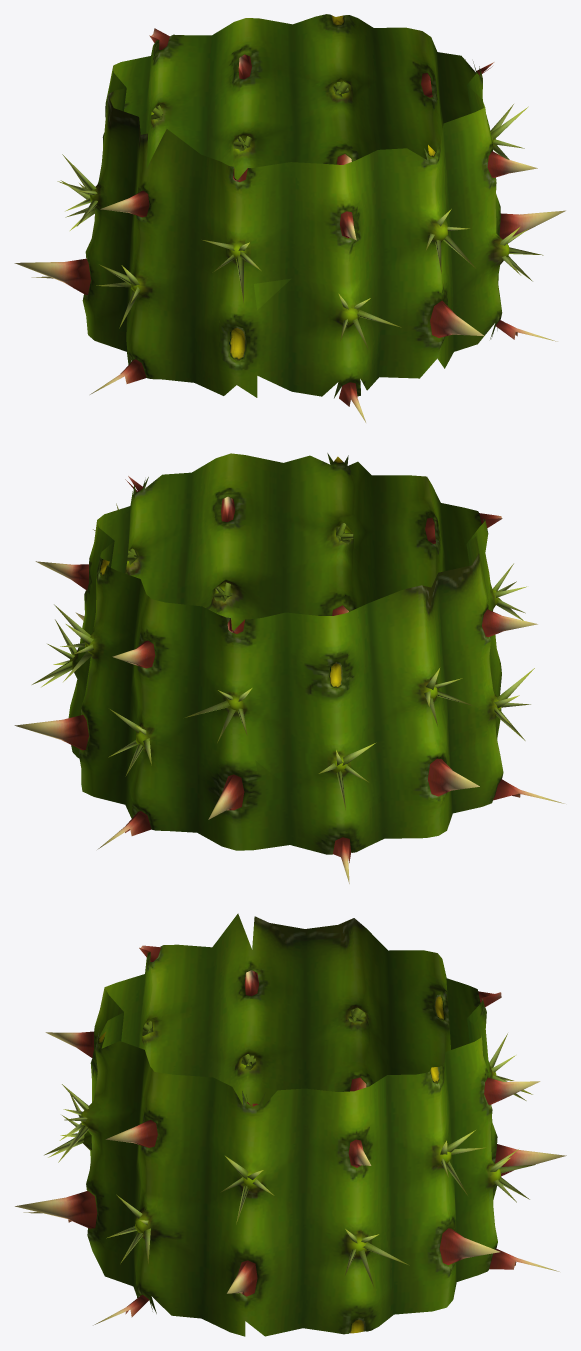
The model's file is cactus_tallo1.obj.
The picture shows the model from 3 angles, top to bottom: view 1: azimuth 30°, elevation 25°; view 2: azimuth 150°, elevation 25°; view 3: azimuth 270°, elevation 25°; orthographic projection. The views are drawn at different scales.
Visible parts, largest first — view 1: cactus_tallo1; view 2: cactus_tallo1; view 3: cactus_tallo1.
Boxes of the visible parts, x1=… form: cactus_tallo1: x1=14, y1=14, x2=565, y2=422; cactus_tallo1: x1=14, y1=453, x2=564, y2=883; cactus_tallo1: x1=15, y1=913, x2=566, y2=1336.
Size of the model in its own units: 0.6384 by 0.3136 by 0.6163.
